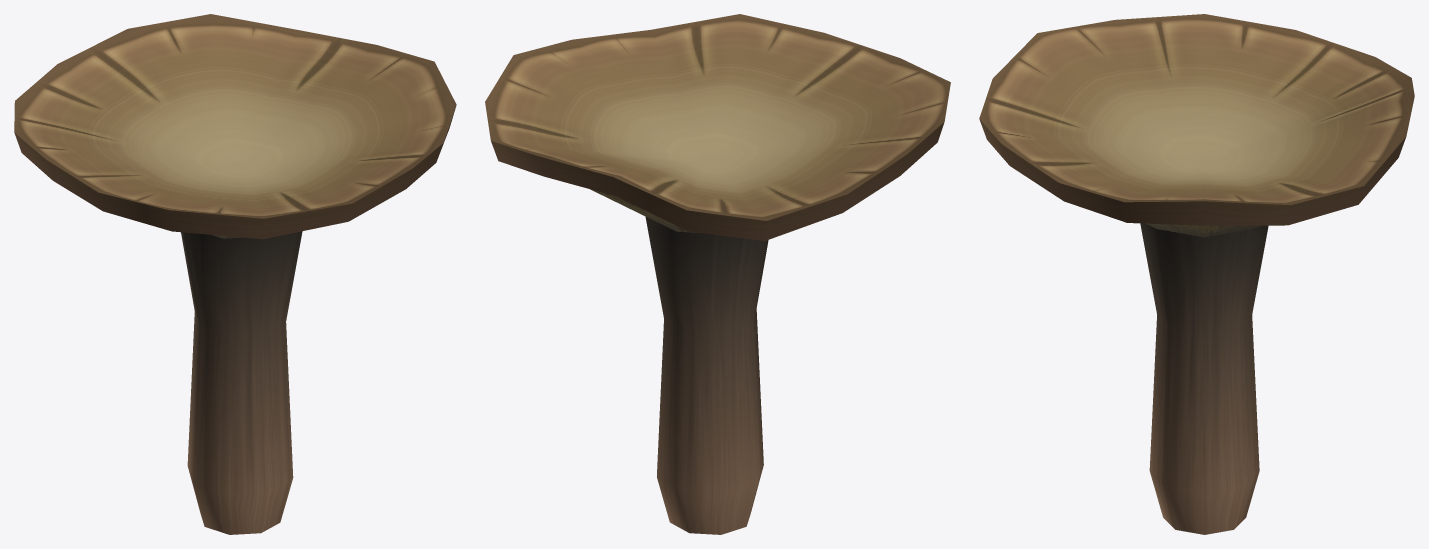
File: VEG0110011.fbx
3 views of the same model, side by side, from view 1: azimuth 30°, elevation 25°; view 2: azimuth 150°, elevation 25°; view 3: azimuth 270°, elevation 25° (orthographic).
Visible parts, largest first — view 1: smVEG0110011; view 2: smVEG0110011; view 3: smVEG0110011.
Part boxes in pixels (x1,y1,x2,y2): smVEG0110011: [14, 14, 456, 534]; smVEG0110011: [485, 14, 950, 534]; smVEG0110011: [979, 14, 1414, 534].
Bounding box in the file's own units: 32.26 × 32.92 × 31.16.
1 material, 1 textured.
